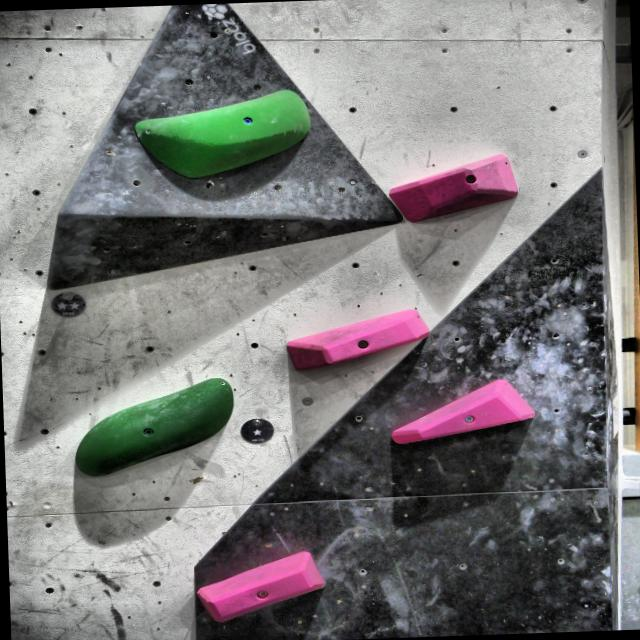Hold: (64, 374, 238, 486), (132, 85, 318, 183), (280, 300, 442, 372), (194, 540, 334, 620), (392, 374, 539, 446), (388, 149, 523, 221)
